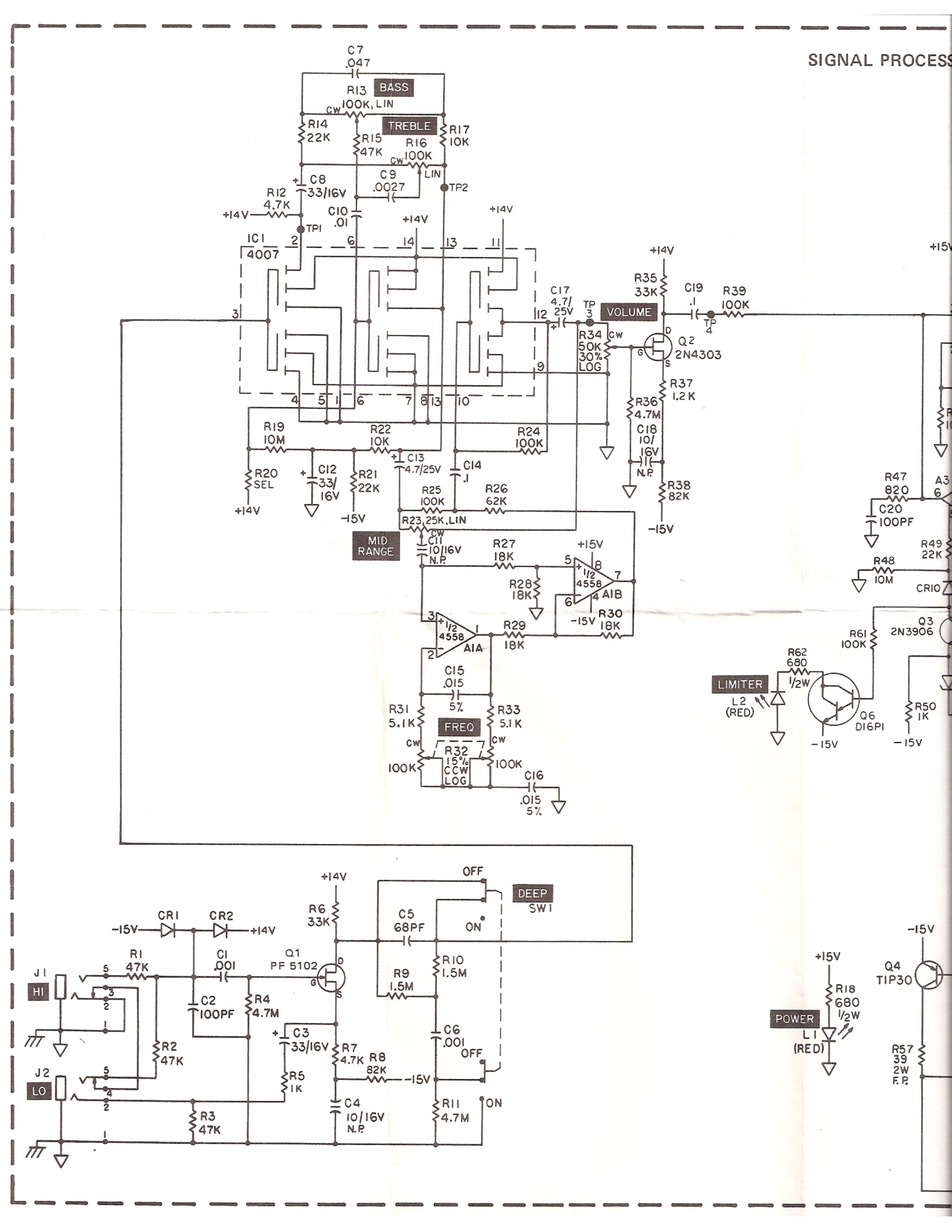C1: (215, 948, 228, 960)
C10: (327, 205, 348, 217)
C11: (427, 536, 443, 545)
C12: (317, 463, 337, 476)
C13: (406, 452, 427, 463)
C14: (463, 458, 483, 472)
C15: (443, 664, 466, 676)
C16: (523, 768, 544, 781)
C17: (550, 284, 571, 296)
C18: (636, 423, 658, 435)
C19: (684, 282, 705, 294)
C2: (201, 995, 217, 1006)
C20: (879, 503, 903, 514)
C3: (292, 1027, 311, 1039)
C4: (344, 1097, 360, 1110)
C5: (397, 907, 415, 921)
C6: (443, 1024, 461, 1036)
C7: (347, 43, 365, 56)
C8: (308, 173, 328, 186)
C9: (378, 168, 397, 181)
CR10: (915, 582, 941, 594), (157, 909, 180, 922)
CR2: (208, 909, 234, 922)
Q1: (285, 948, 301, 959)
Q2: (678, 335, 696, 347)
Q3_4: (918, 615, 934, 627)
Q4: (882, 959, 902, 974)
Q6: (859, 710, 876, 720)
R1: (128, 948, 144, 960)
R10: (441, 953, 465, 966)
R11: (441, 1096, 461, 1110)
R12: (266, 185, 288, 198)
R13: (346, 82, 368, 97)
R14: (307, 118, 329, 130)
R15: (360, 133, 382, 143)
R16: (404, 137, 428, 149)
R17: (449, 123, 470, 136)
R18: (835, 982, 857, 995)
R19: (262, 421, 286, 432)
R2: (161, 1040, 179, 1055)
R20: (253, 467, 279, 479)
R21: (358, 468, 378, 481)
R22: (368, 423, 393, 435)
R23: (402, 515, 422, 526)
R24: (516, 425, 542, 437)
R25: (421, 484, 442, 495)
R26: (483, 483, 509, 493)
R27: (492, 538, 516, 549)
R28: (509, 578, 533, 589)
R29: (503, 620, 526, 631)
R3: (199, 1110, 217, 1122)
R30: (598, 609, 623, 619)
R31: (388, 704, 411, 715)
R32: (443, 745, 468, 757)
R33: (498, 704, 522, 716)
R34: (579, 330, 602, 339)
R35: (633, 271, 658, 284)
R36: (635, 395, 659, 407)
R37: (669, 378, 693, 390)
R38: (667, 479, 692, 491)
R39: (721, 285, 747, 296)
R4: (254, 992, 271, 1006)
R47: (884, 471, 908, 483)
R48: (872, 555, 896, 566)
R49: (920, 539, 943, 549)
R5: (288, 1070, 307, 1082)
R50: (914, 701, 937, 712)
R57: (891, 1043, 914, 1054)
R6: (307, 903, 327, 915)
R61: (848, 629, 868, 639)
R62: (787, 647, 808, 657)
R7: (340, 1042, 359, 1053)
R8: (369, 1051, 387, 1062)
R9: (392, 968, 411, 980)
